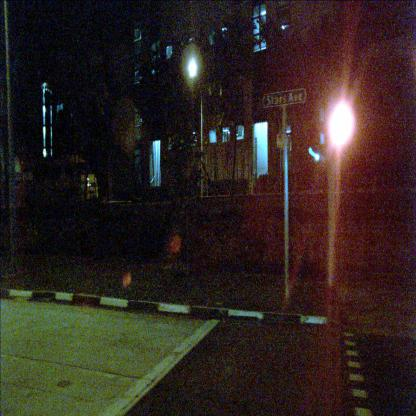vehicle-car: (22, 154, 99, 207)
